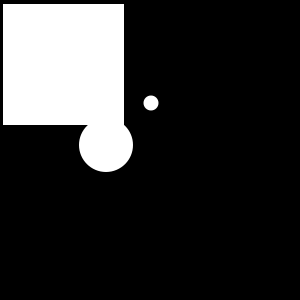circle: (3, 4, 124, 125)
rectangle: (79, 118, 133, 172), (143, 95, 158, 110)
